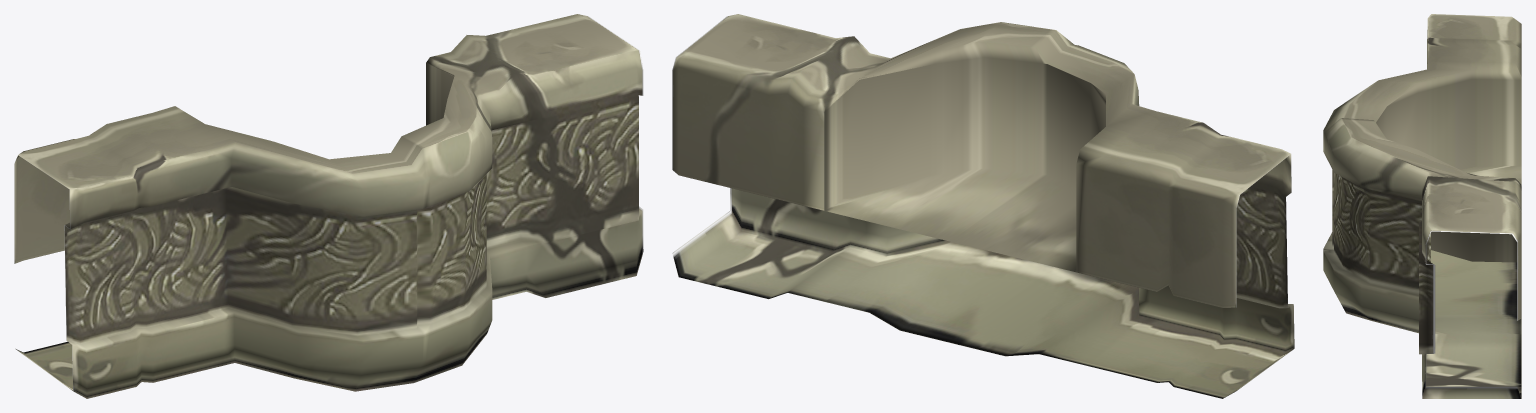
The model's file is walltop_3_indent.fbx.
3 renders of one model, left to right at view 1: azimuth 30°, elevation 25°; view 2: azimuth 150°, elevation 25°; view 3: azimuth 270°, elevation 25°, orthographic. The views are drawn at different scales.
Parts seen in each view (by area): view 1: wallcap11; view 2: wallcap11; view 3: wallcap11.
Part boxes in pixels (x1,y1,x2,y2): wallcap11: (14,14,643,398); wallcap11: (672,14,1294,398); wallcap11: (1323,14,1521,398).
Bounding box in the file's own units: 2 × 0.771 × 0.7712.
